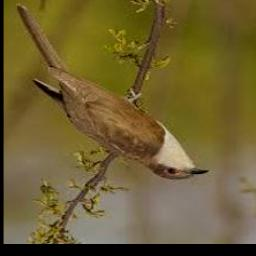Cuckoo: (16, 3, 210, 180)
